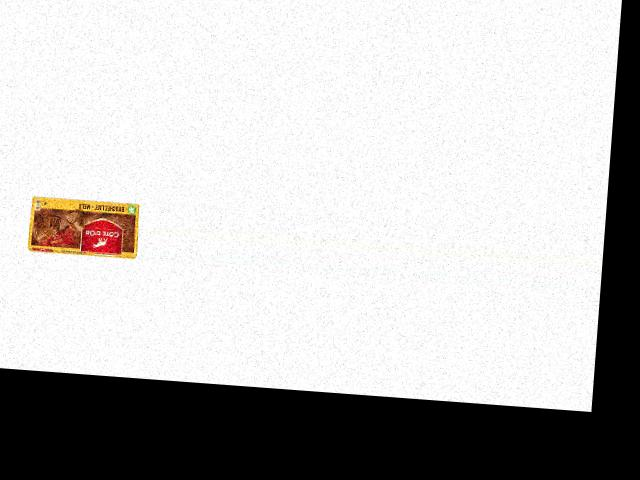chocolate: (25, 186, 141, 261)
